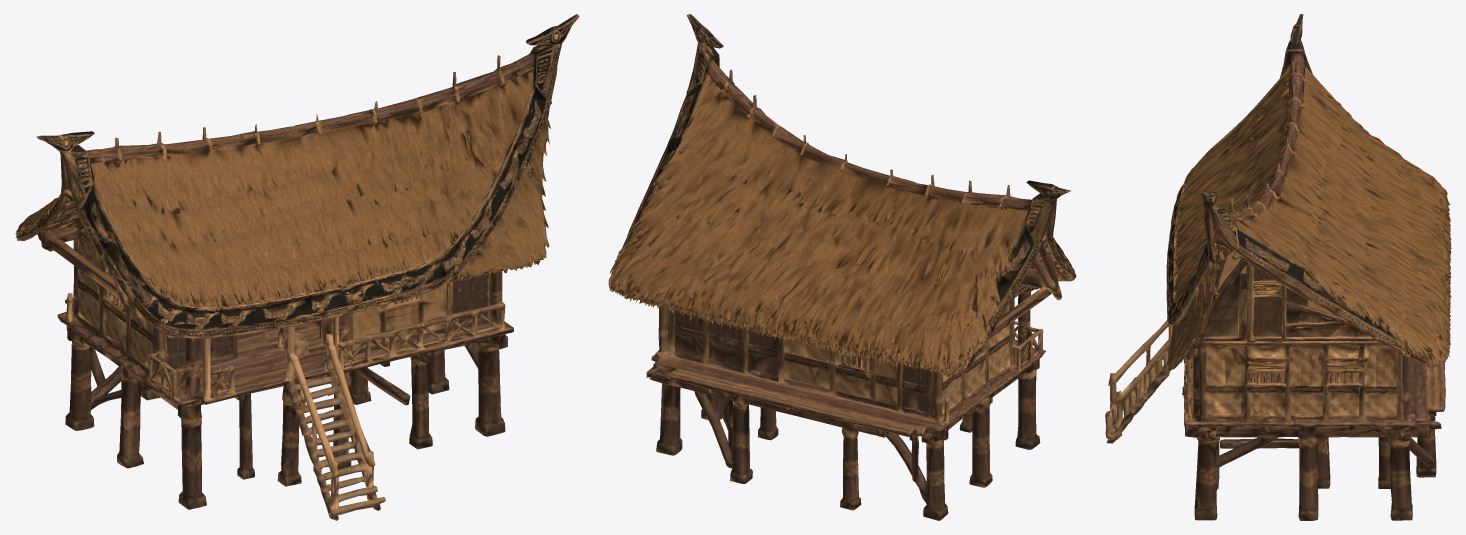
Rendered from Meshy_AI_Hornbill_Stilt_House_texture_remesh_tri.glb.
3 views of the same model, side by side, from view 1: azimuth 30°, elevation 25°; view 2: azimuth 150°, elevation 25°; view 3: azimuth 270°, elevation 25° (orthographic). The views are drawn at different scales.
Size of the model in its own units: 1.9 by 1.47 by 1.27.
Materials: 1 (1 with a texture image).
